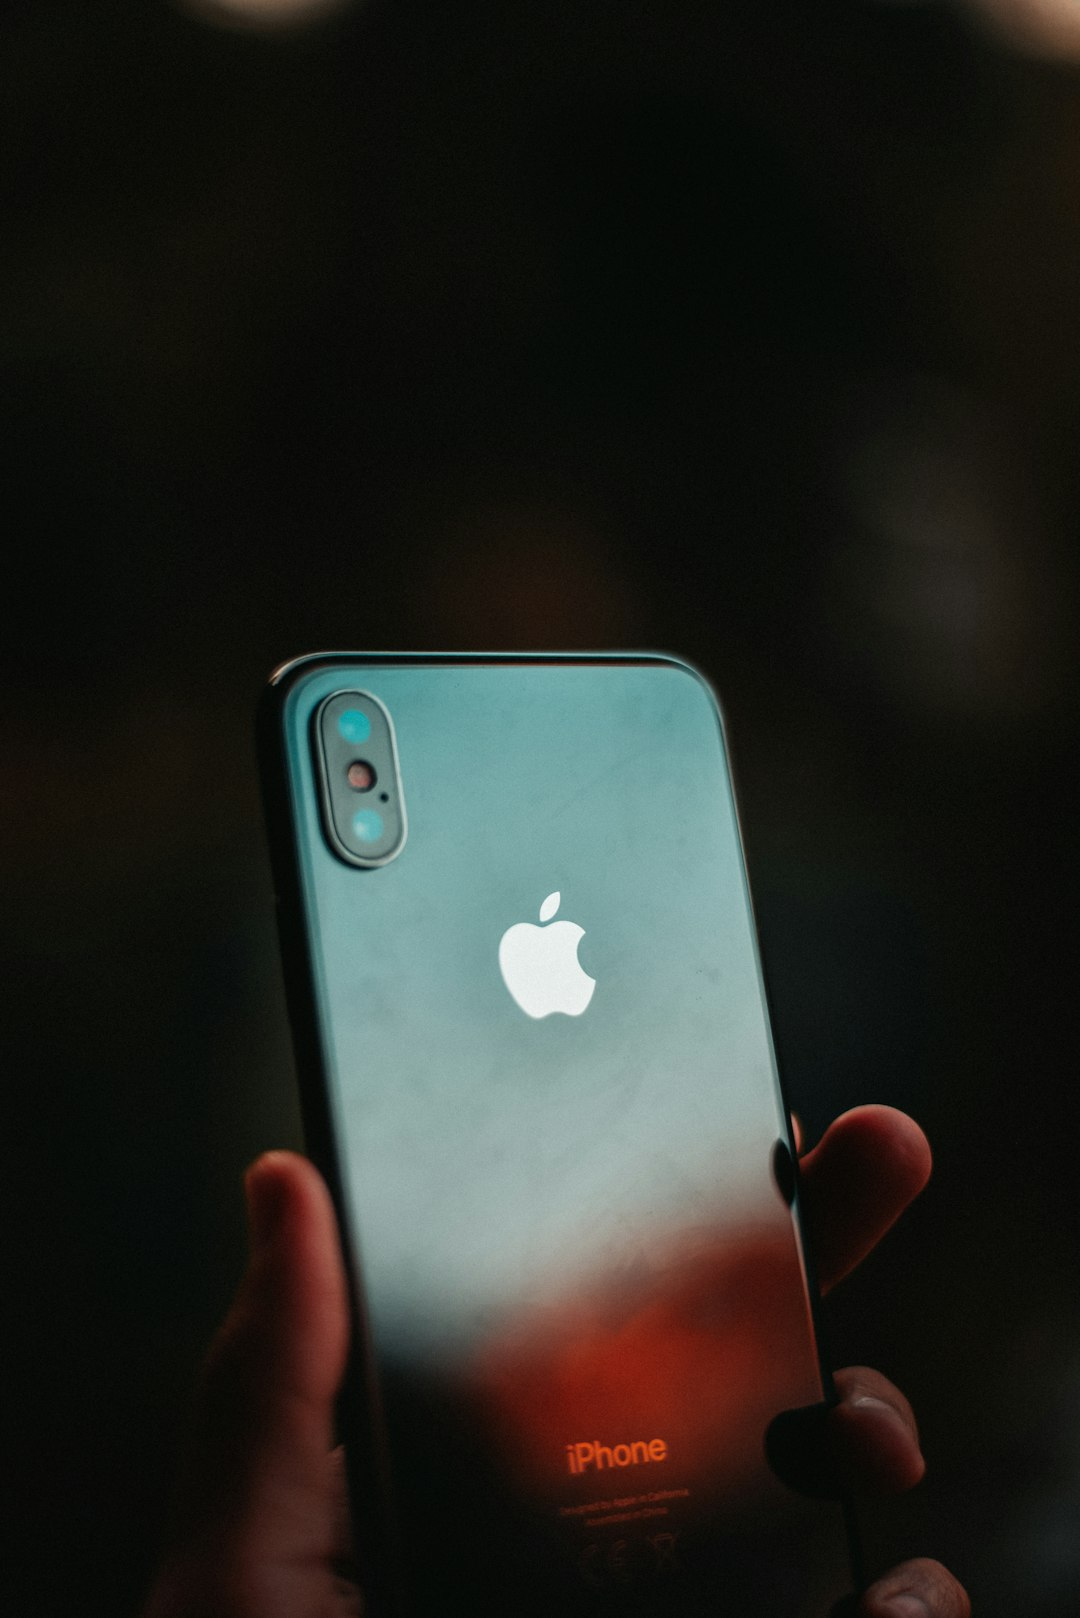phone: (262, 639, 855, 1596)
